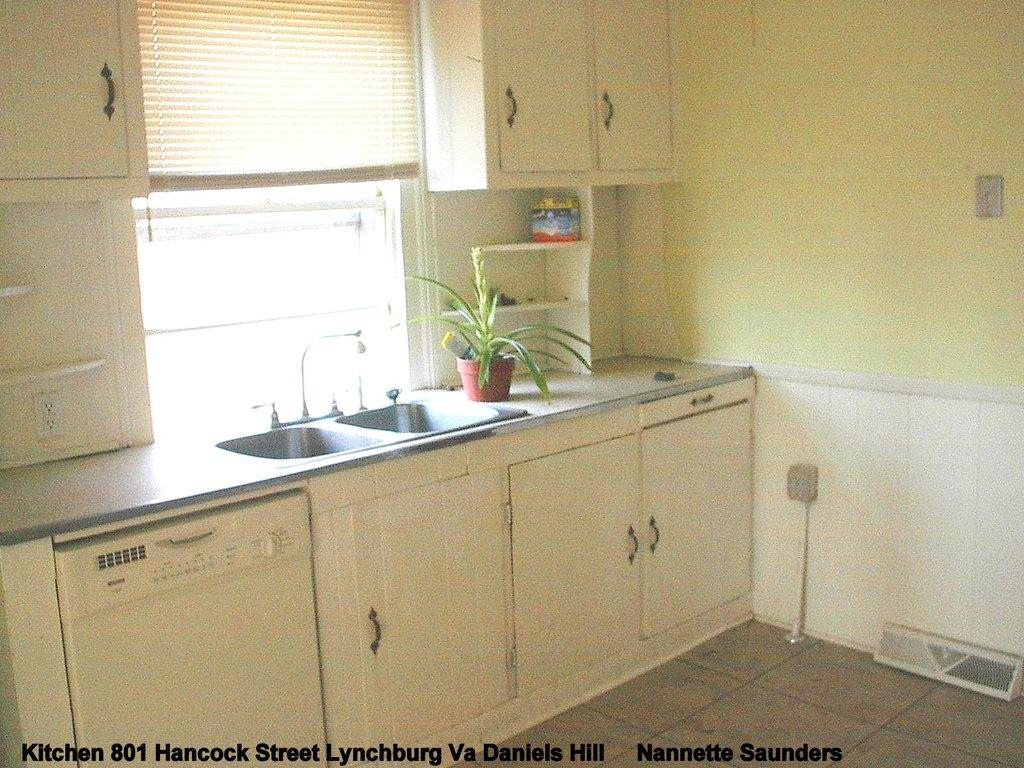cabinet_door: (331, 511, 491, 707), (520, 461, 638, 639), (3, 26, 123, 166), (644, 435, 749, 588), (492, 1, 590, 164), (600, 15, 666, 161)
handle: (502, 85, 526, 134), (96, 63, 118, 115), (364, 606, 386, 657), (643, 511, 667, 550), (600, 88, 618, 136), (623, 527, 641, 560)
